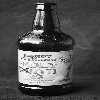beer: (16, 2, 77, 95)
